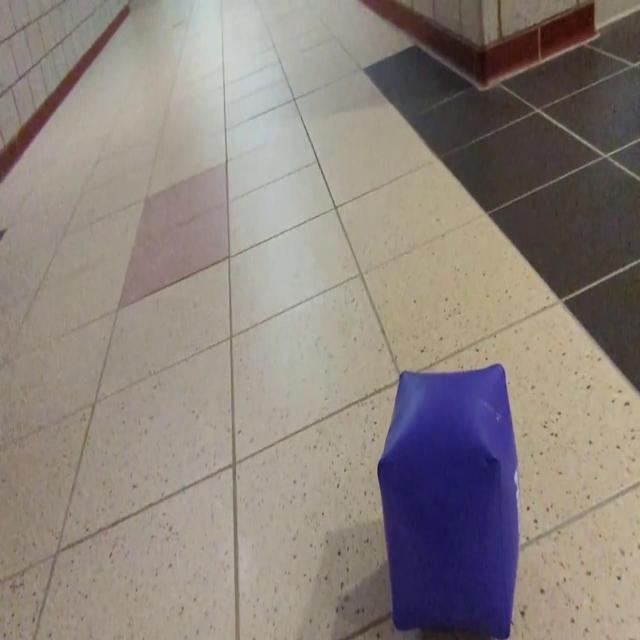frc_cube: (376, 361, 522, 640)
